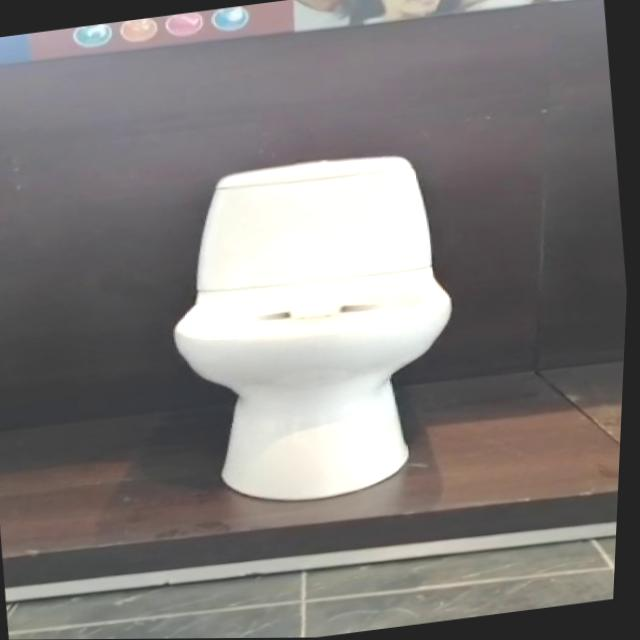toilet: (151, 143, 483, 516)
